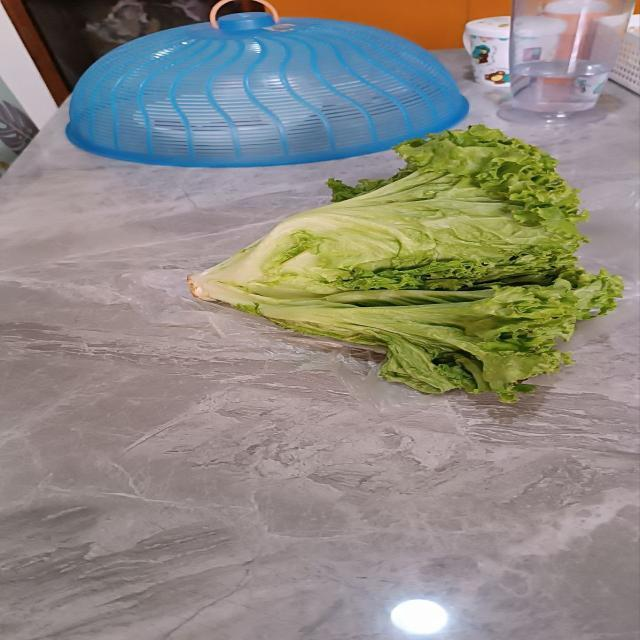Lettuce-Ready-to-Harvest: (193, 127, 606, 408)
